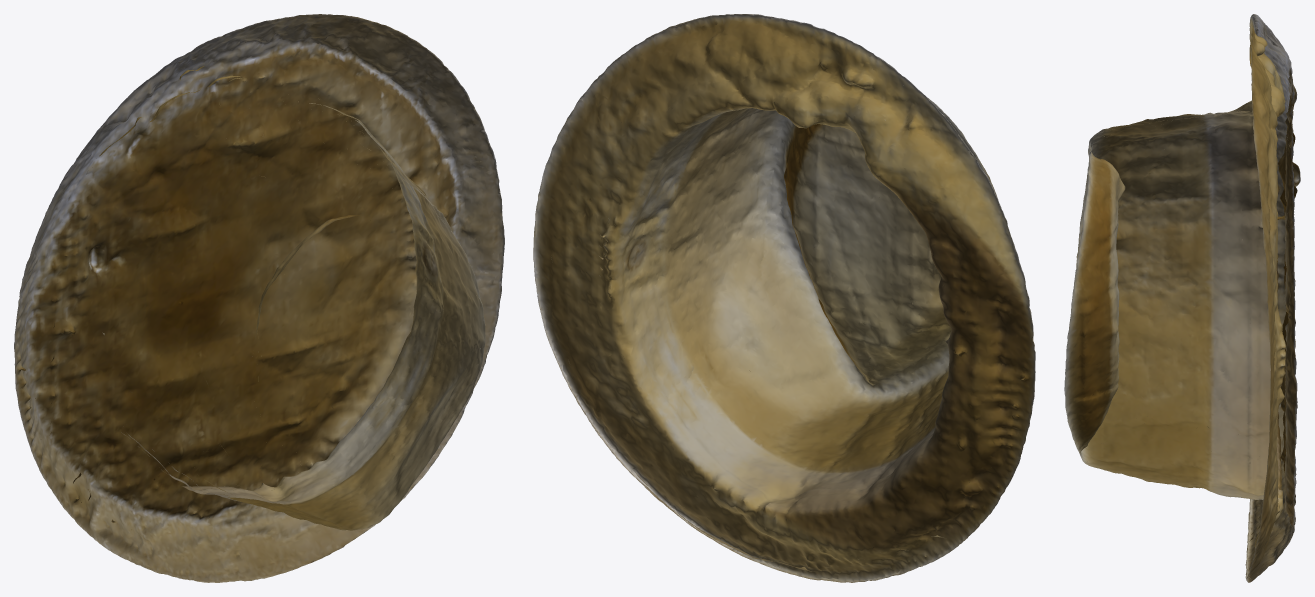
File: hat.glb
3 renders of one model, left to right at view 1: azimuth 30°, elevation 25°; view 2: azimuth 150°, elevation 25°; view 3: azimuth 270°, elevation 25°, orthographic. The views are drawn at different scales.
Size of the model in its own units: 0.9335 by 1 by 0.4121.
